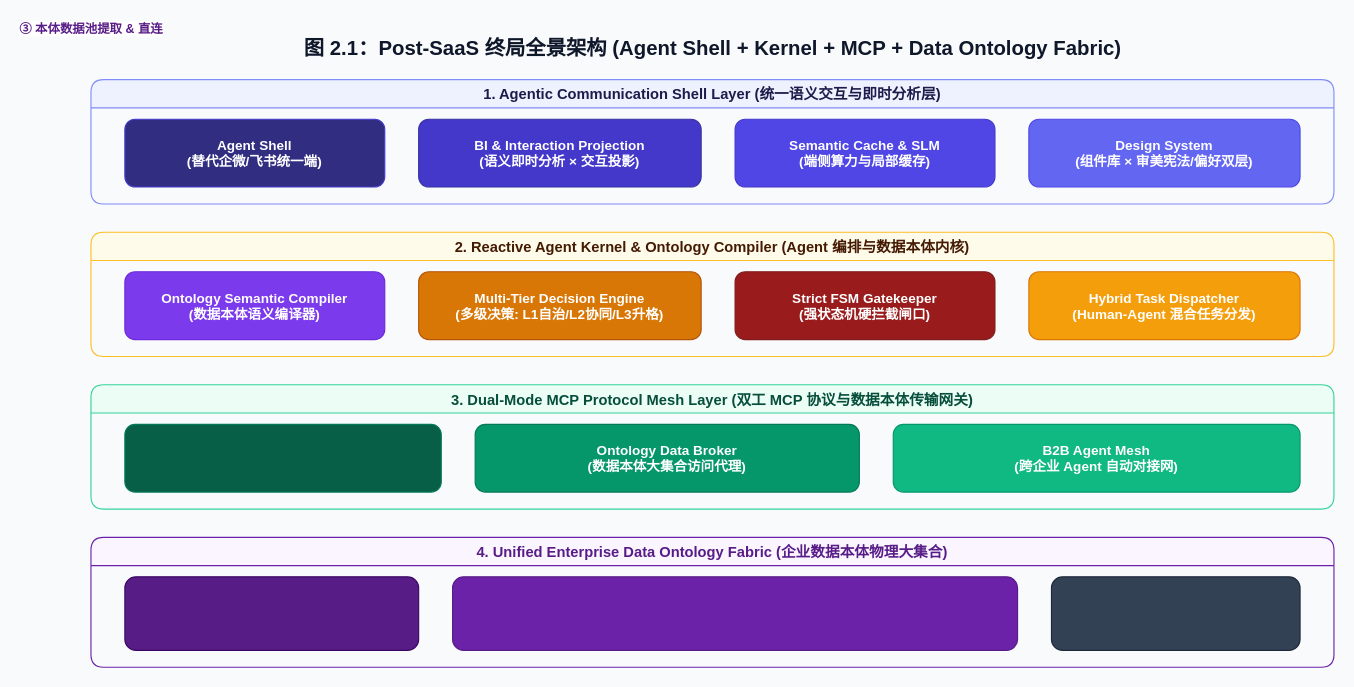
The diagram is 1354 pixels wide and 687 high, and some of its shapes have lost their labels. Each missing label, with the centre of its shape:
"Data CDC Stream Monitor (数据变更与沟通流捕获)" goes at [271,613].
"Enterprise Data Ontology Fabric (数据本体大集合) [ 哲学实体映射 + 全量业务数据 + 沟通流 + 历史行为 ]" goes at [734,613].
"Immutable Audit Log (只读不可篡改审计日志)" goes at [1175,613].
"Resolver × Connector Gateway (统一接入底座 × 向量语义寻址)" goes at [282,457].
